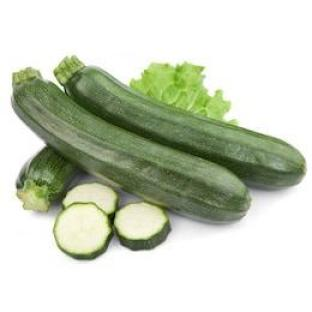Zucchini: (12, 71, 250, 221), (54, 57, 305, 188), (16, 147, 77, 211), (53, 203, 112, 259), (114, 203, 170, 250), (63, 183, 117, 215)
